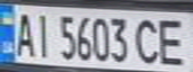0: (90, 14, 112, 63)
3: (109, 13, 133, 64)
5: (54, 11, 78, 61)
6: (72, 12, 93, 62)
A: (9, 9, 36, 58)
C: (133, 15, 163, 65)
E: (154, 15, 193, 67)
I: (30, 9, 57, 60)
